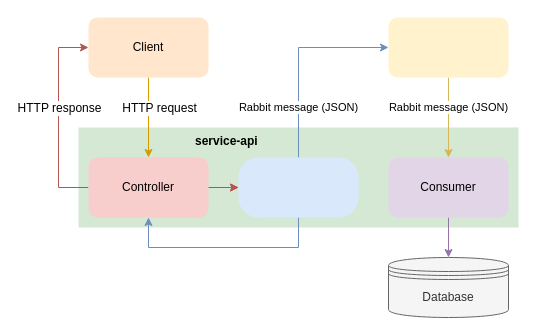
The diagram is 536 pixels wide and 335 high, and some of its shapes have lost their labels. Here are the shapes that lost their labels. From the top down, the centre of each, then its label:
point 448,47: RabbitMq
point 298,187: Producer
